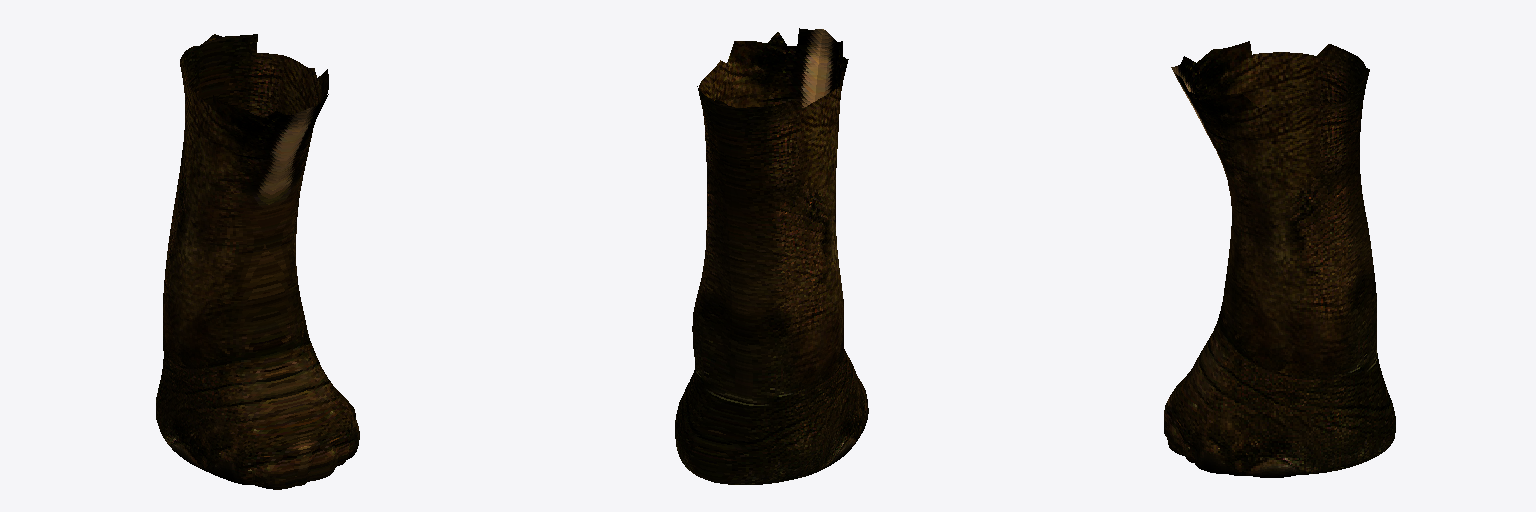
3 views of the same model, side by side, from view 1: azimuth 30°, elevation 25°; view 2: azimuth 150°, elevation 25°; view 3: azimuth 270°, elevation 25° (orthographic).
Visible parts, largest first — view 1: ele_lower_rear_left; view 2: ele_lower_rear_left; view 3: ele_lower_rear_left.
Boxes of the visible parts, x1=… form: ele_lower_rear_left: x1=156, y1=34, x2=359, y2=489; ele_lower_rear_left: x1=675, y1=28, x2=868, y2=484; ele_lower_rear_left: x1=1164, y1=41, x2=1395, y2=477.
Size of the model in its own units: 994 by 2294 by 1286.
1 materials, 1 textured.